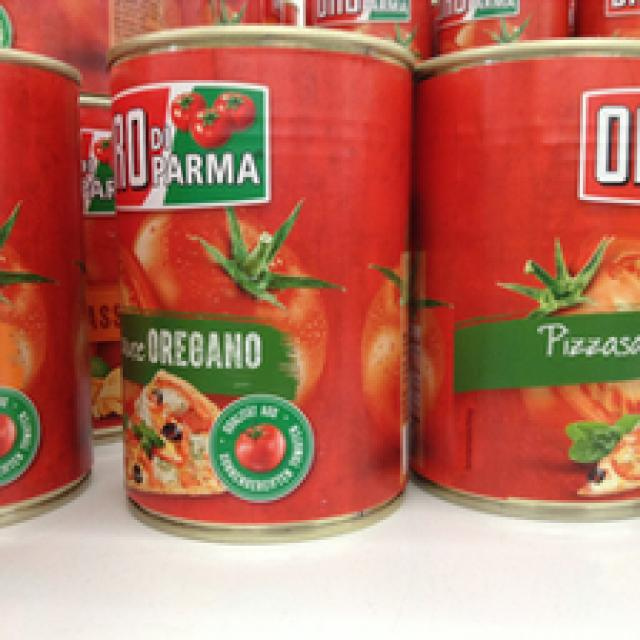groceries: (103, 23, 417, 540), (412, 34, 637, 517)
